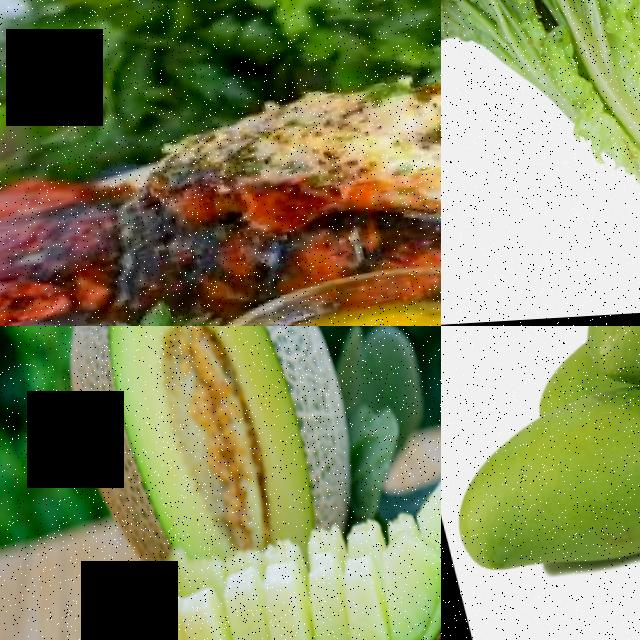lettuce: (441, 0, 640, 241)
lobster tails: (0, 78, 441, 326)
mango: (441, 373, 640, 590)
melon: (27, 326, 366, 567)
